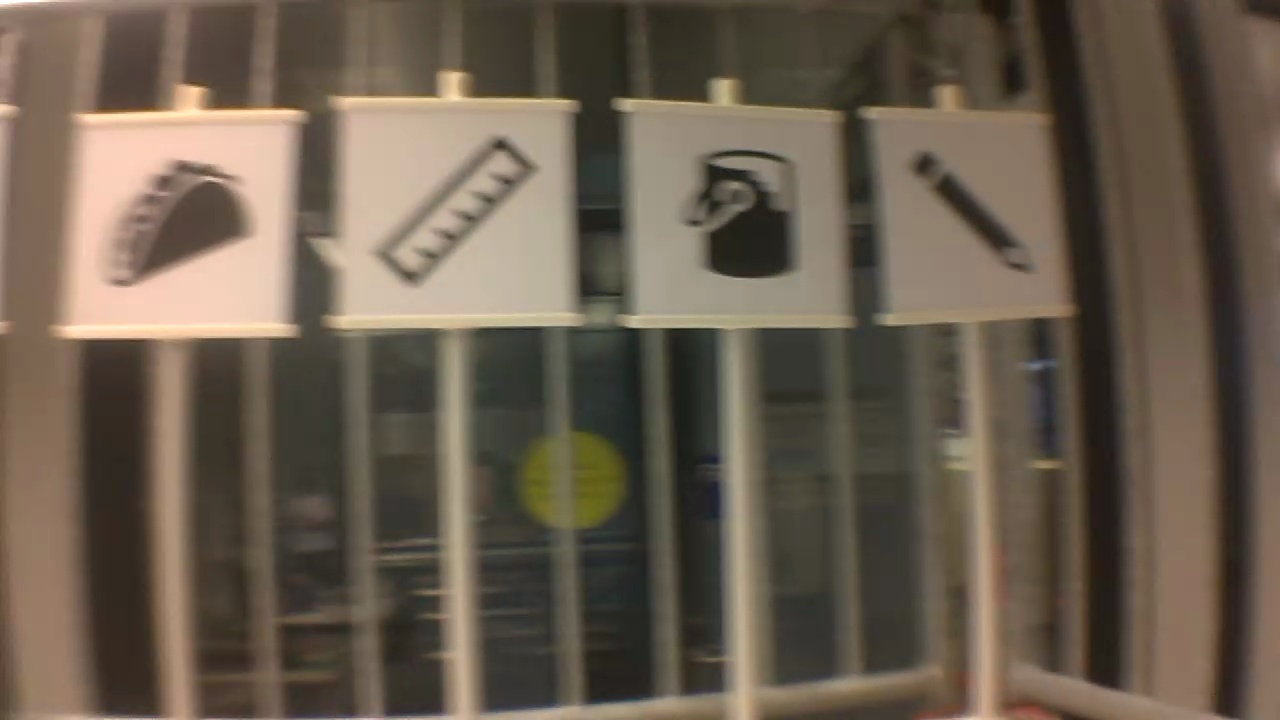bucket: (674, 144, 804, 286)
pencil: (904, 144, 1042, 283)
ruler: (368, 127, 549, 295)
taco: (88, 150, 261, 295)
